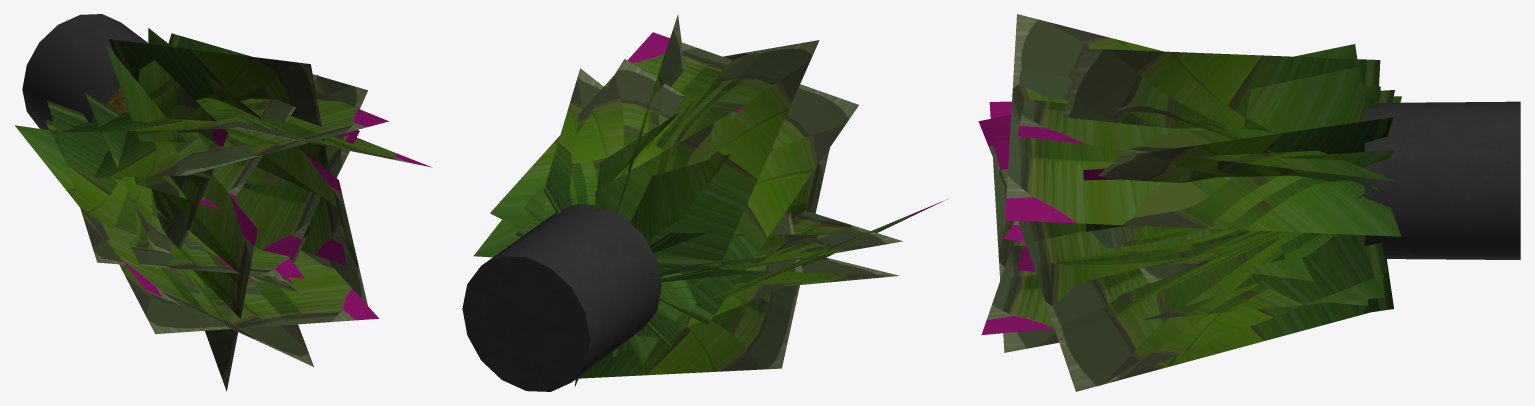
The picture shows the model from 3 angles, left to right: view 1: azimuth 30°, elevation 25°; view 2: azimuth 150°, elevation 25°; view 3: azimuth 270°, elevation 25°; orthographic projection. The views are drawn at different scales.
Parts seen in each view (by area): view 1: Pot_1_Low_PolyPlant_0; view 2: Pot_1_Low_PolyPlant_0; view 3: Pot_1_Low_PolyPlant_0.
Boxes of the visible parts, bbox=[...] form: Pot_1_Low_PolyPlant_0: bbox=[15, 14, 432, 391]; Pot_1_Low_PolyPlant_0: bbox=[462, 15, 947, 391]; Pot_1_Low_PolyPlant_0: bbox=[978, 14, 1520, 391].
Size of the model in its own units: 1.1 by 1.07 by 1.46.
1 material, 1 textured.
